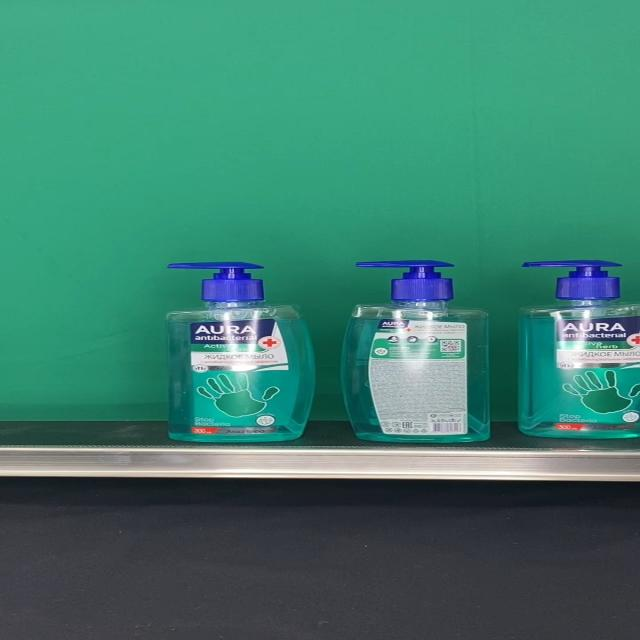Bottle: (163, 261, 318, 441), (339, 260, 491, 442), (516, 260, 640, 438)
Cap: (357, 259, 456, 301), (523, 260, 623, 300), (167, 260, 265, 300)
